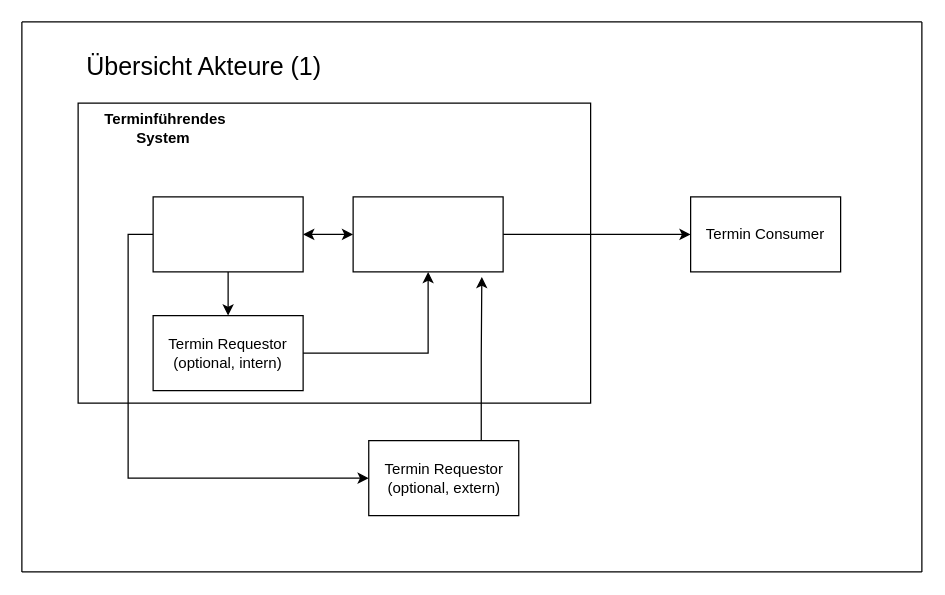
The diagram is 945 pixels wide and 595 high, and some of its shapes have lost their labels. The centre of each missing label's shape, as x and y in pixels:
"Termin Repository (optional)" belongs at pixel 427 234.
"Terminblock Repsoitory (optional)" belongs at pixel 227 234.
